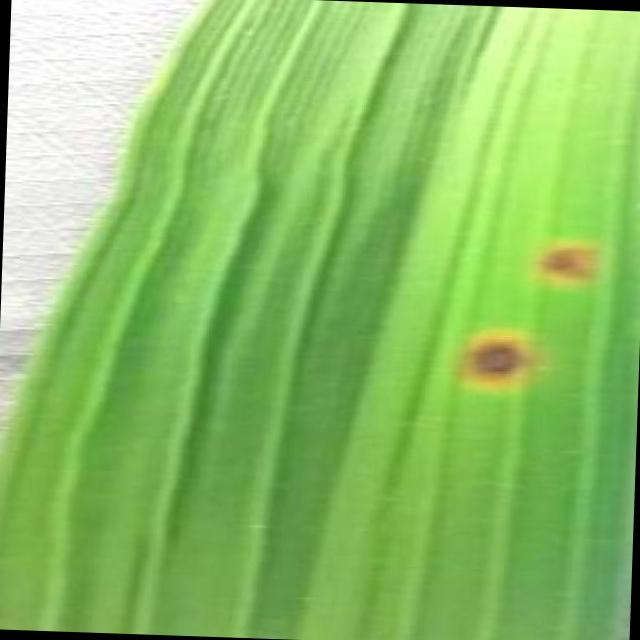Rice_Brownspot: (434, 305, 576, 408), (521, 222, 616, 304)
